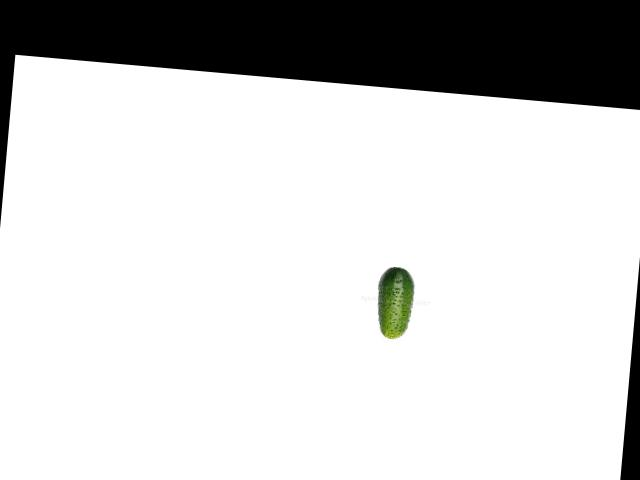cucumber: (374, 265, 417, 340)
